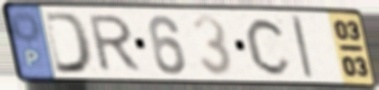3: (192, 11, 234, 80)
6: (146, 13, 187, 77)
C: (244, 15, 295, 78)
D: (41, 10, 95, 76)
I: (289, 13, 316, 81)
R: (87, 13, 145, 74)
